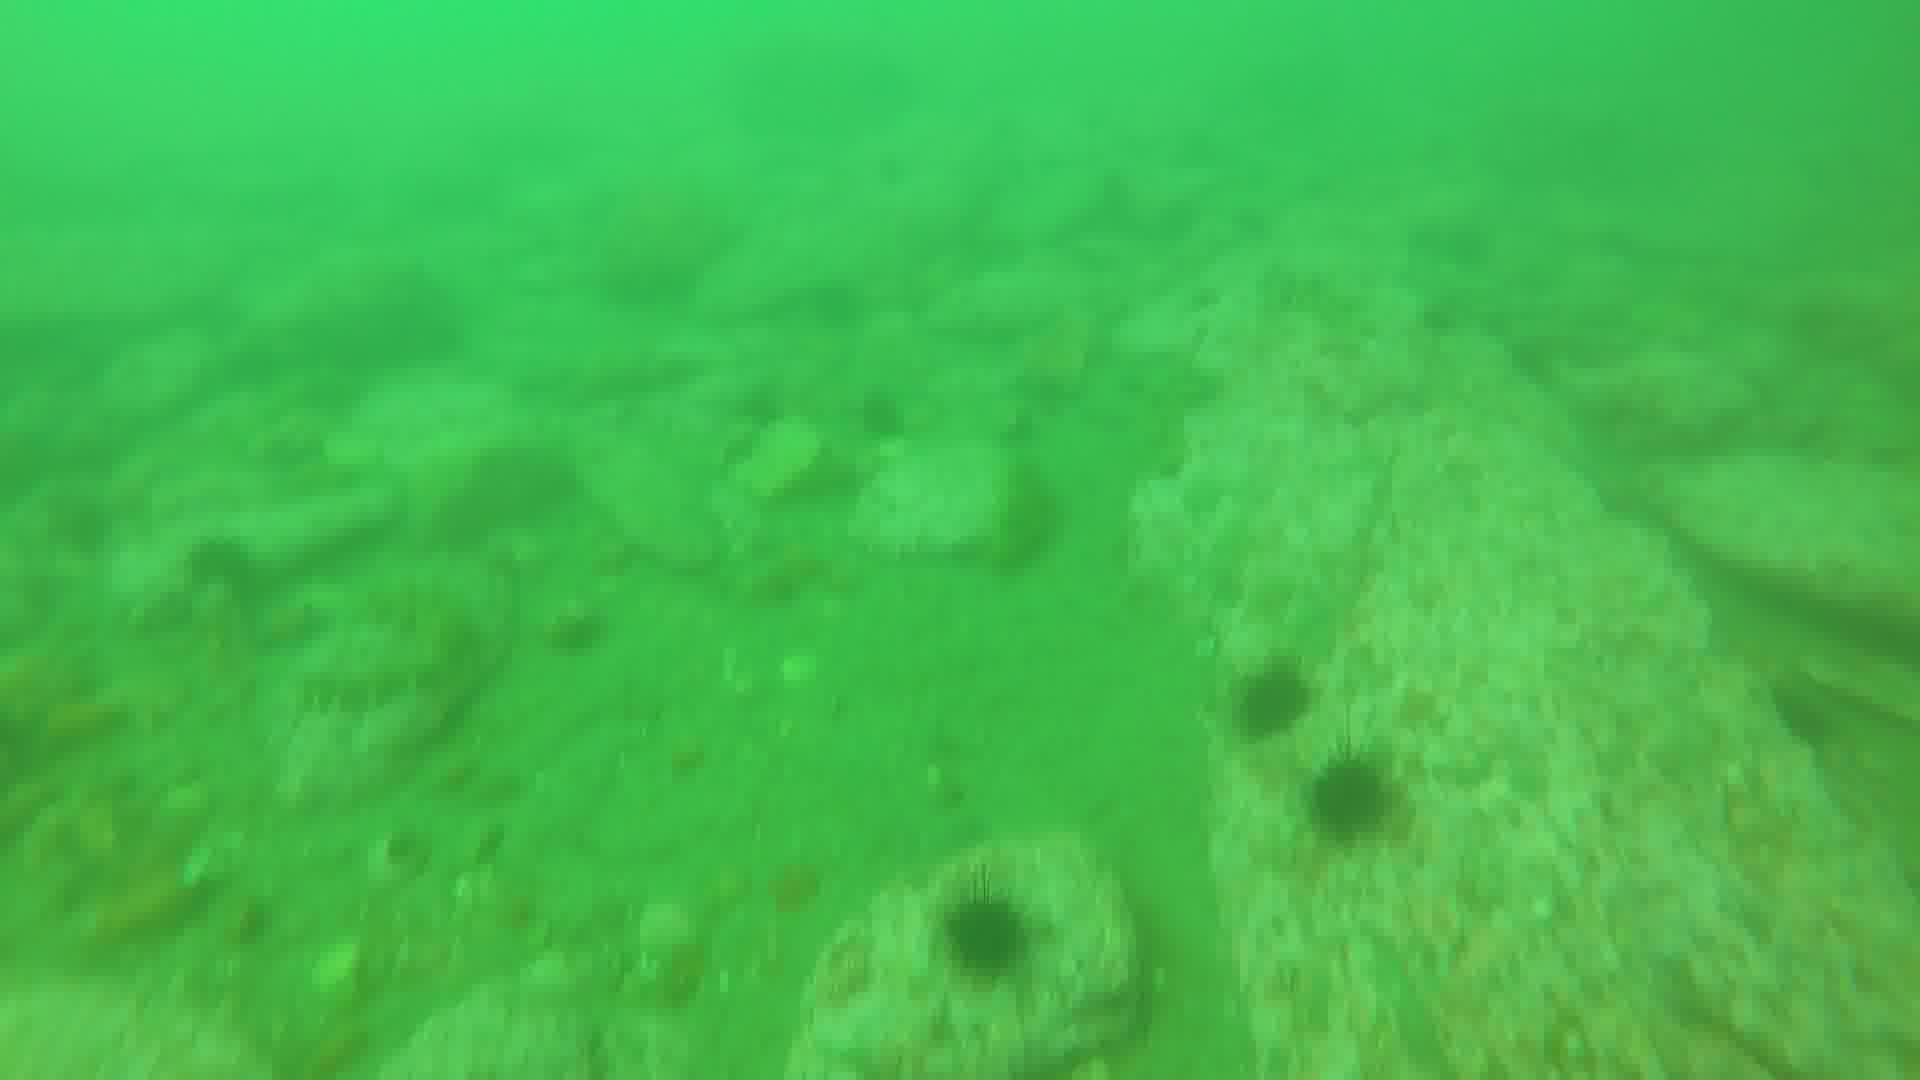echinus: (1311, 754, 1399, 839), (947, 894, 1031, 977), (1230, 658, 1313, 735)
holothurian: (287, 597, 468, 713)
